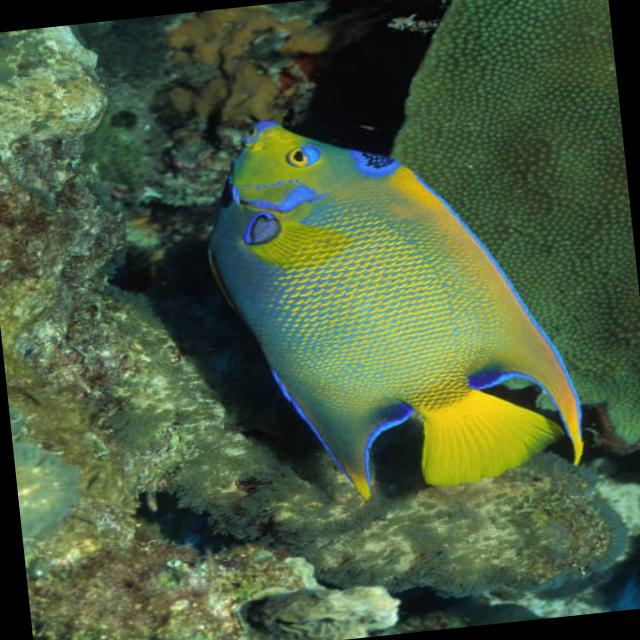AngelFish: (194, 94, 586, 509)
